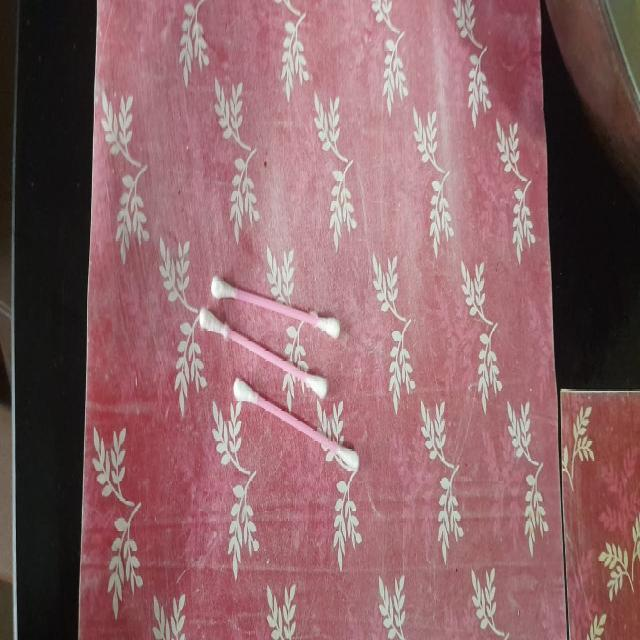Earbud - Non Recyclable: (195, 238, 381, 518)
